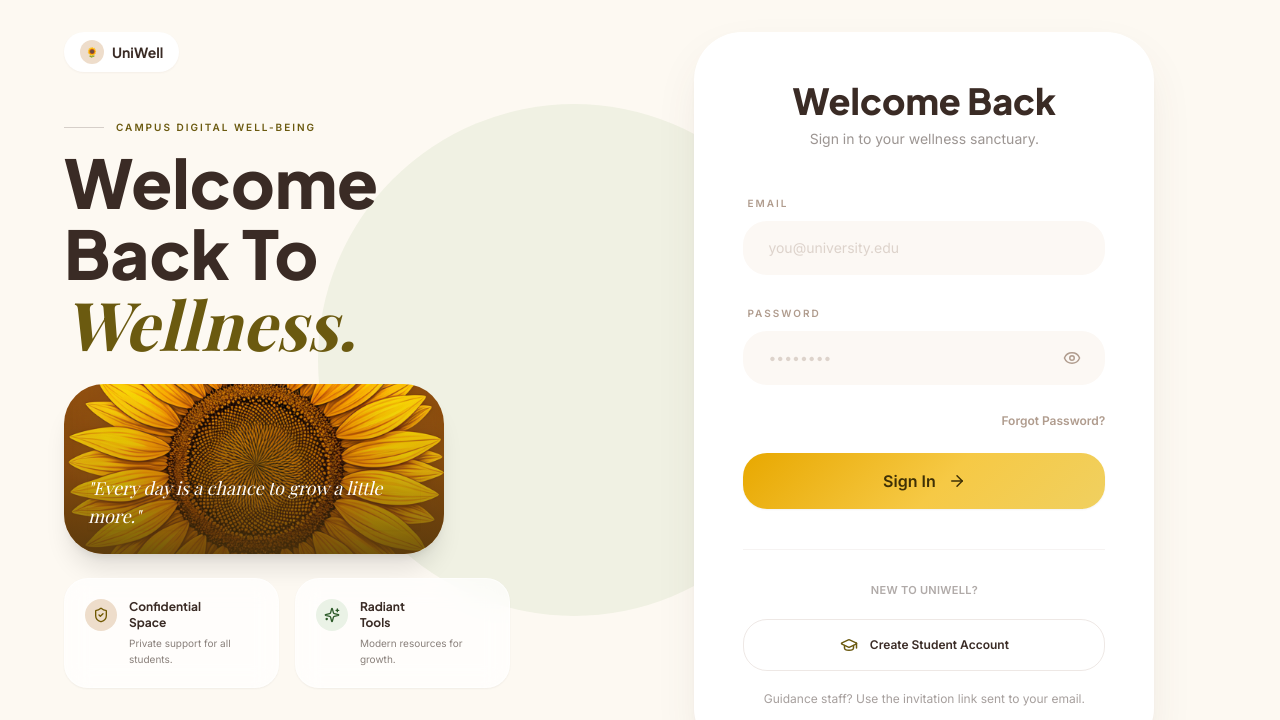
Test: unified login › signs a disabled user out and shows the inactive message
Type "member@example.edu" into the field labelled "Email".
click(924, 248); type("member@example.edu")  # box x1=743 y1=221 x2=1105 y2=275
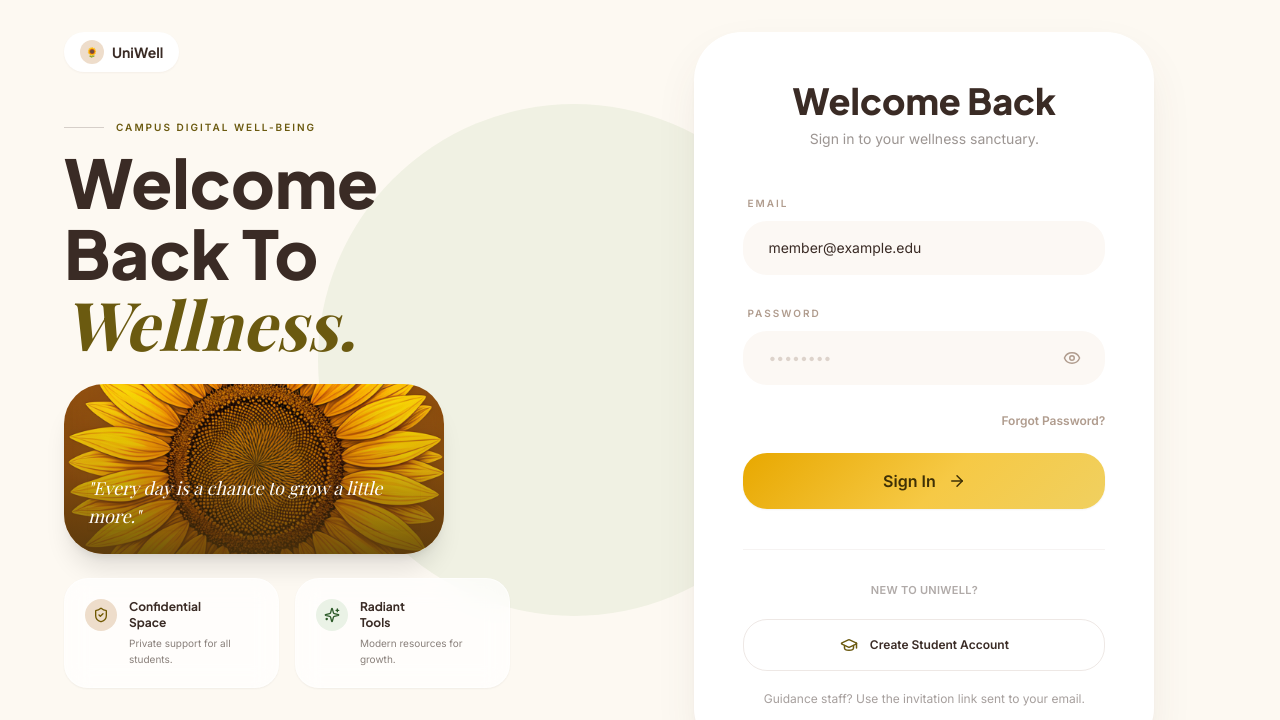
Type "StrongPassword123!" into the password field labelled "Password".
click(924, 358); type("StrongPassword123!")  # box x1=743 y1=331 x2=1105 y2=385
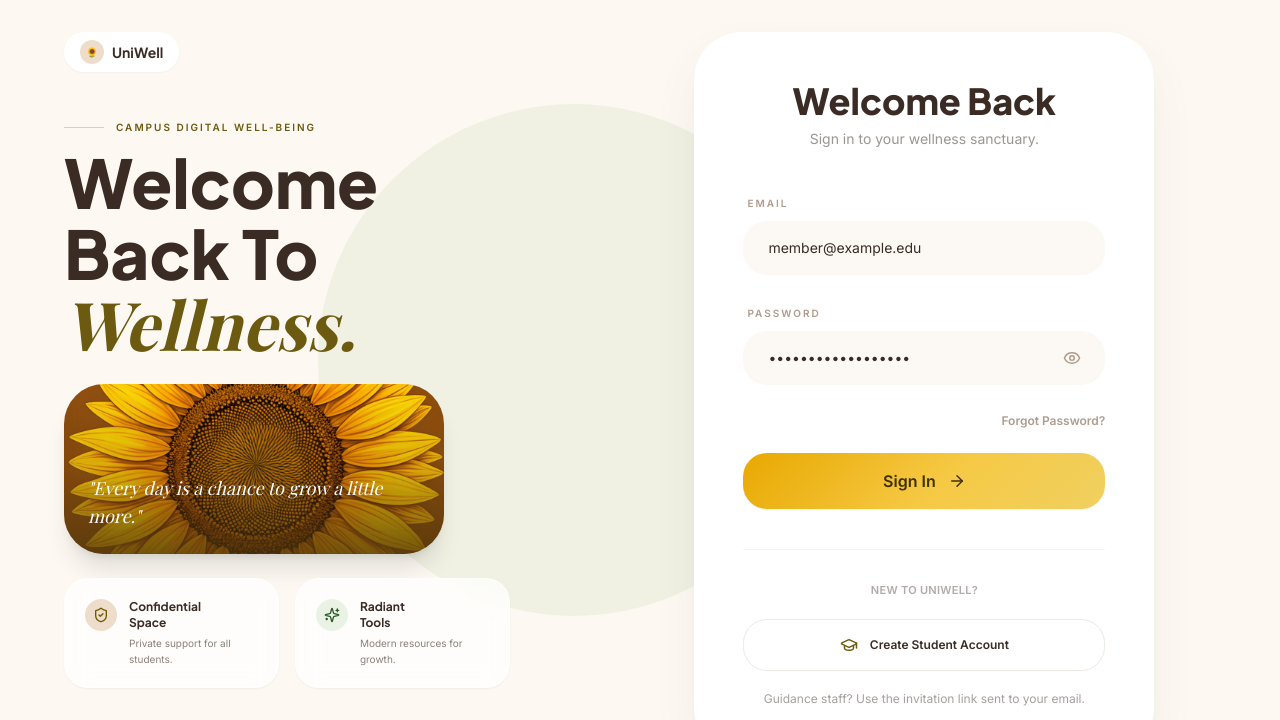
Click the button "Sign In".
click(924, 481)  # box x1=743 y1=453 x2=1105 y2=509
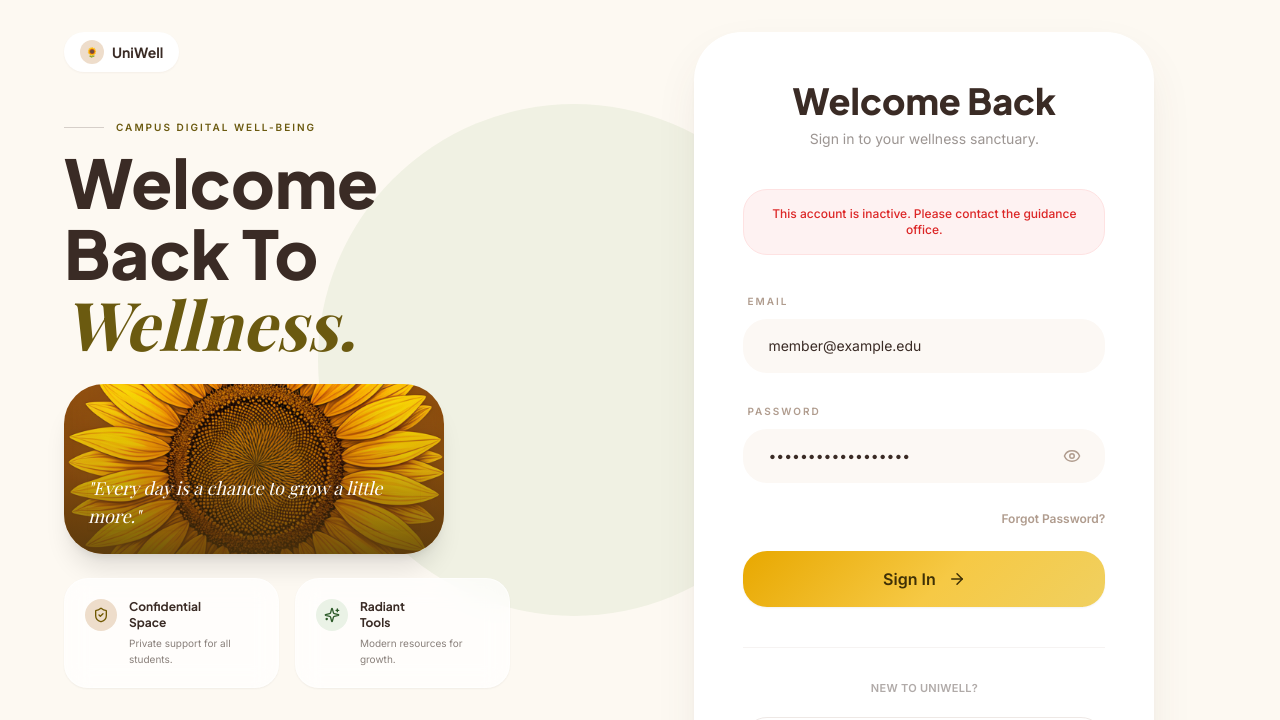
expect the message reads "This account is inactive. Please contact the guidance office.": met, box x1=772 y1=206 x2=1076 y2=237
